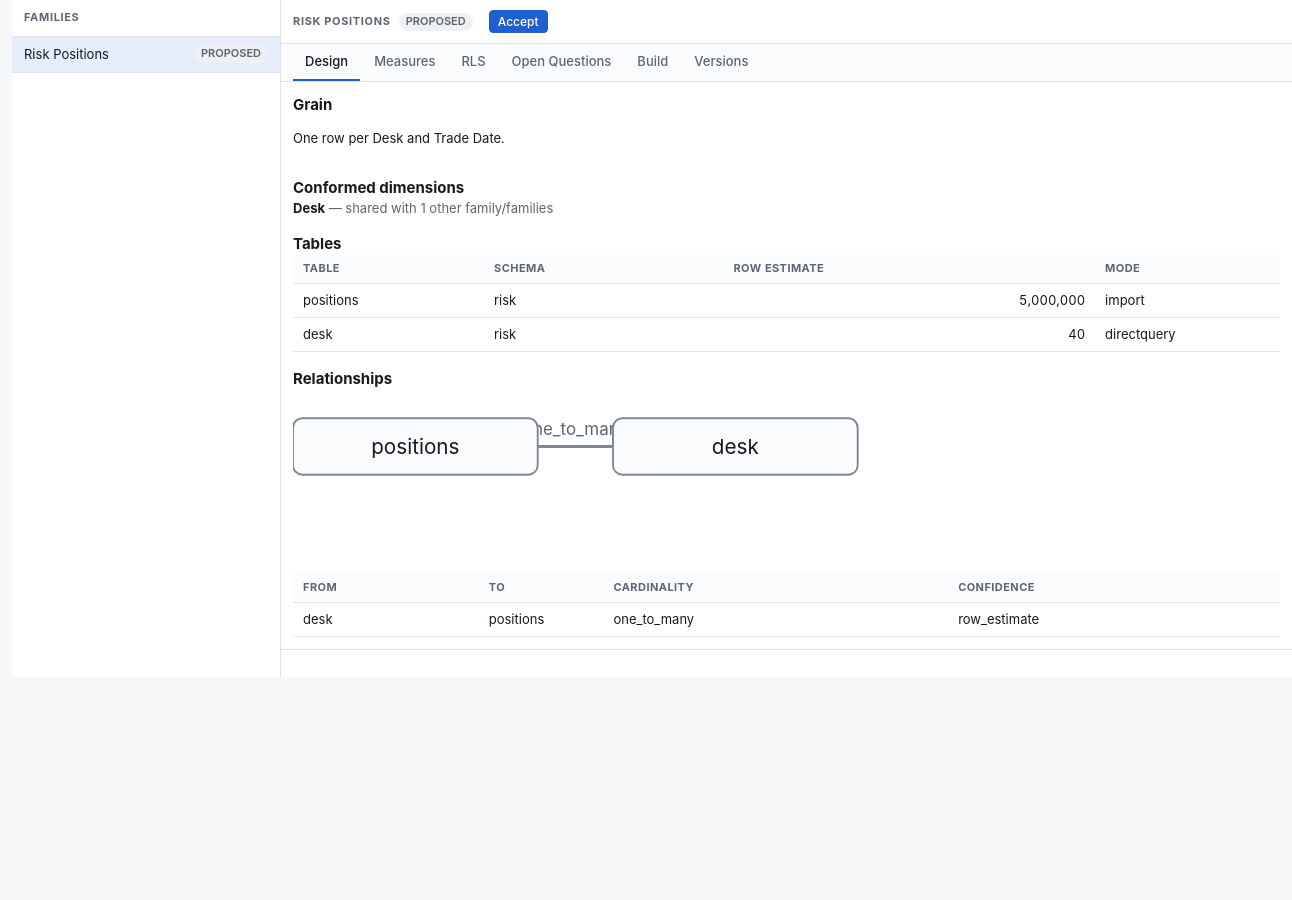
Test case: generating and accepting a proposal › accepts a family into DRAFT
Click the button "Accept" at coordinates (518, 22), box [489,10,548,33]
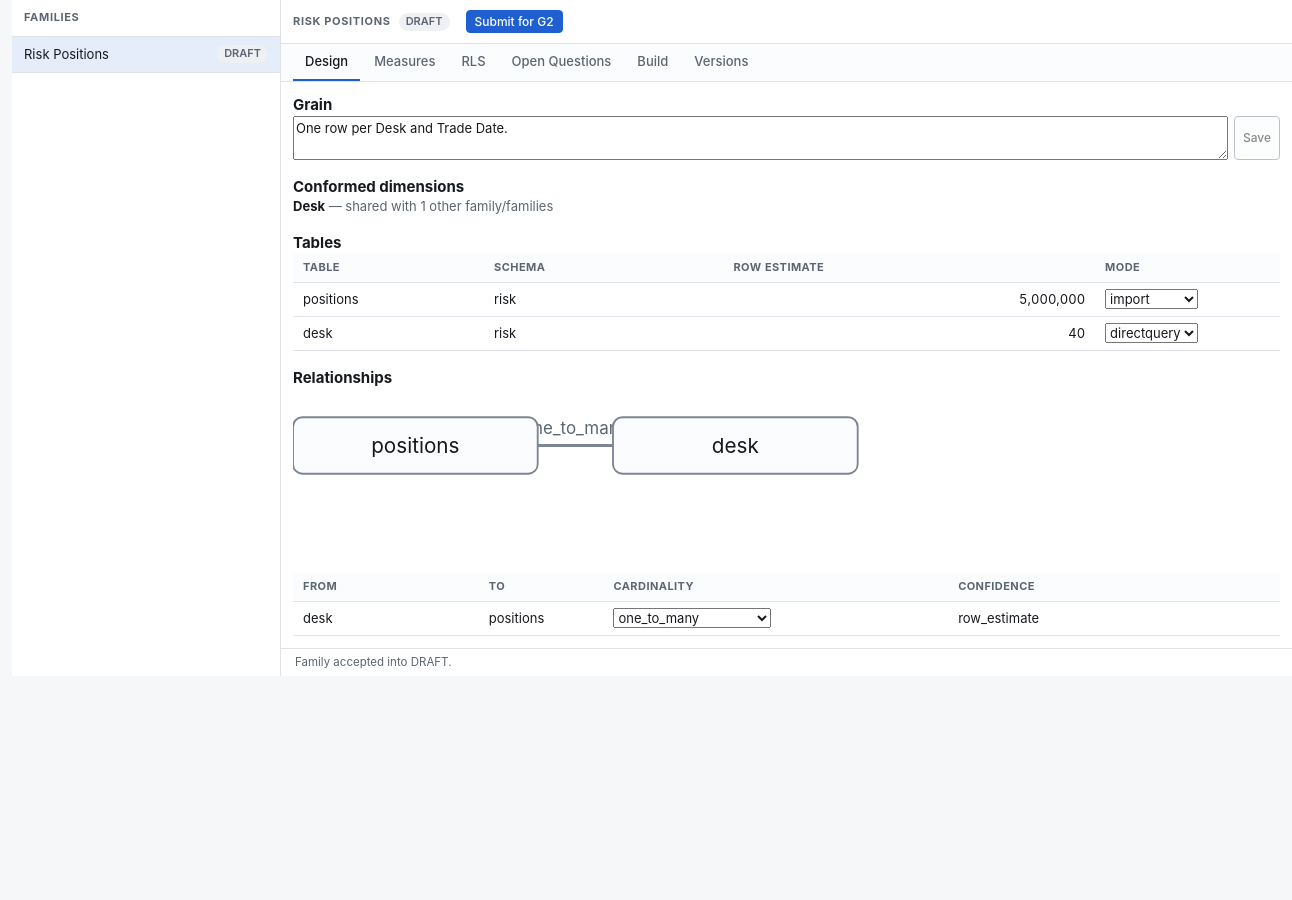
Now the text "Family accepted into DRAFT." is shown, box [295,654,452,671]
